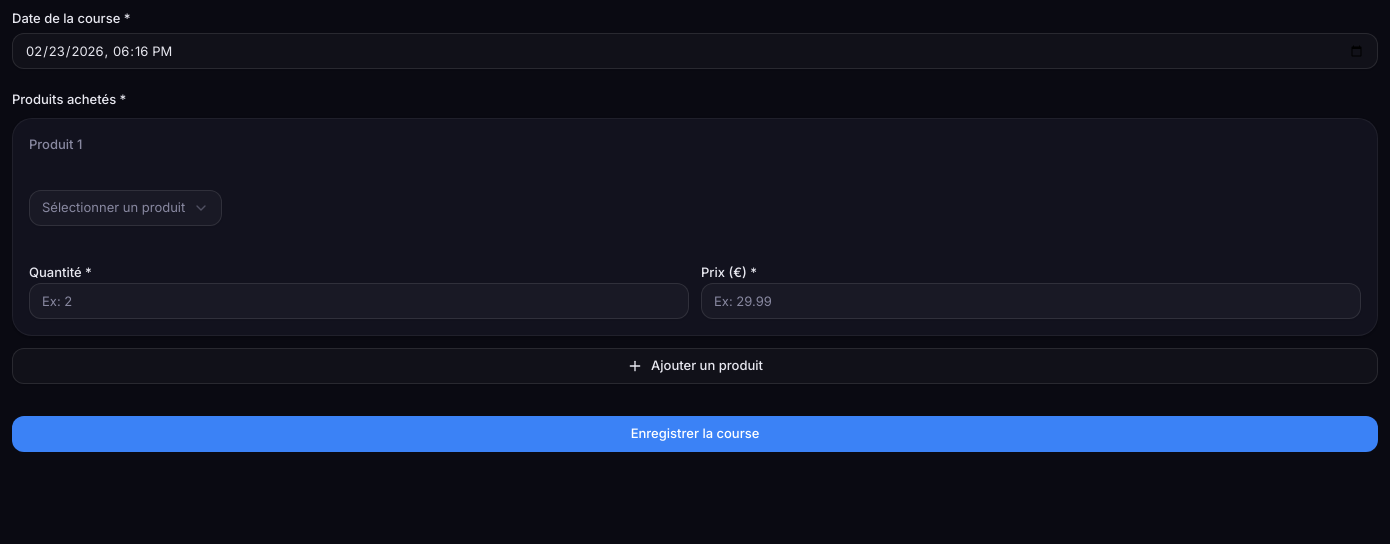
Scenario: ShoppingForm › affiche le total estimé quand des quantités et prix sont saisis
Type "2" into the field with placeholder "Ex: 2".
click(359, 301); type("2")  # box left=29, top=283, right=689, bottom=319
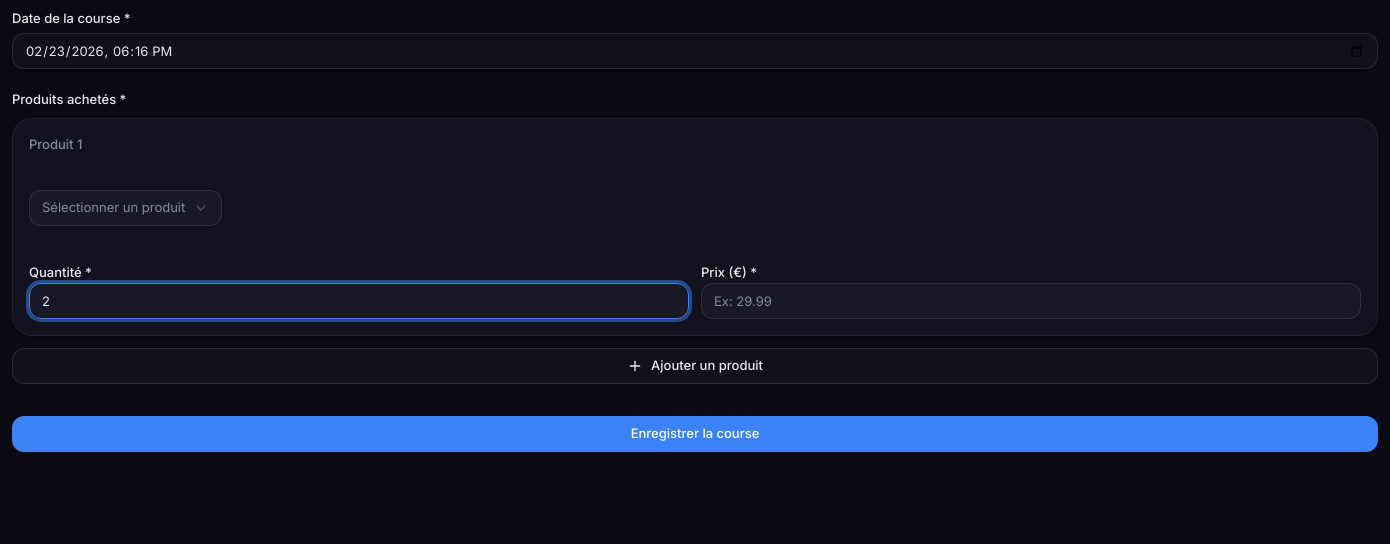
Type "10" into the field with placeholder "Ex: 29.99".
click(1031, 301); type("10")  # box left=701, top=283, right=1361, bottom=319
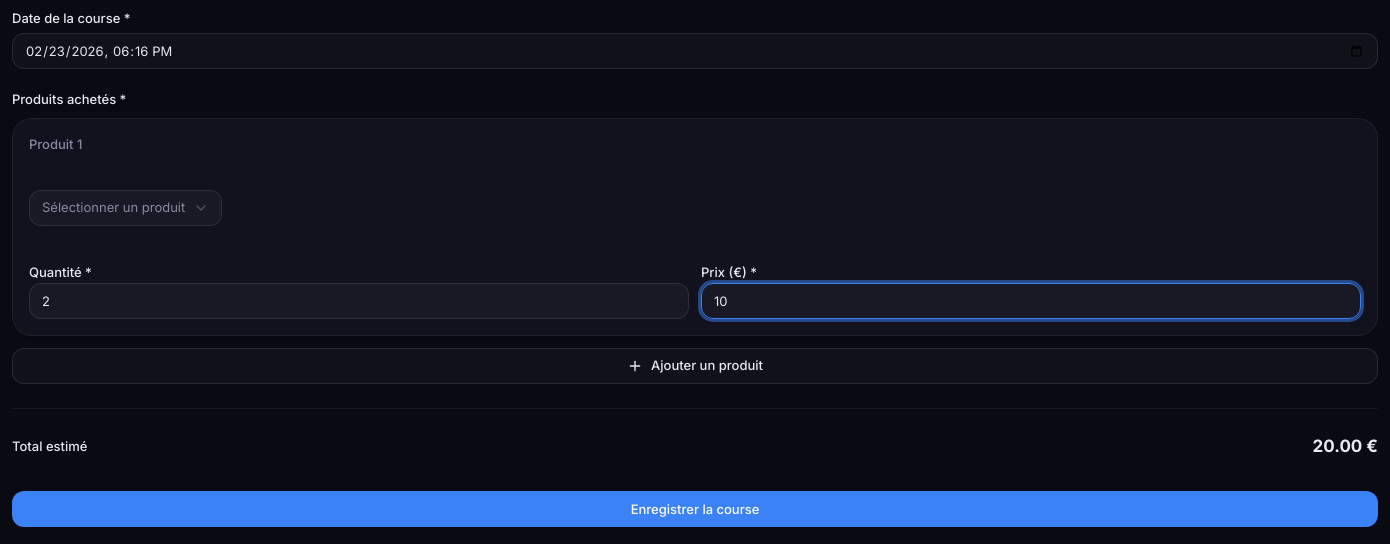
Check: the text "20.00 €" is shown, box left=1312, top=433, right=1378, bottom=459
